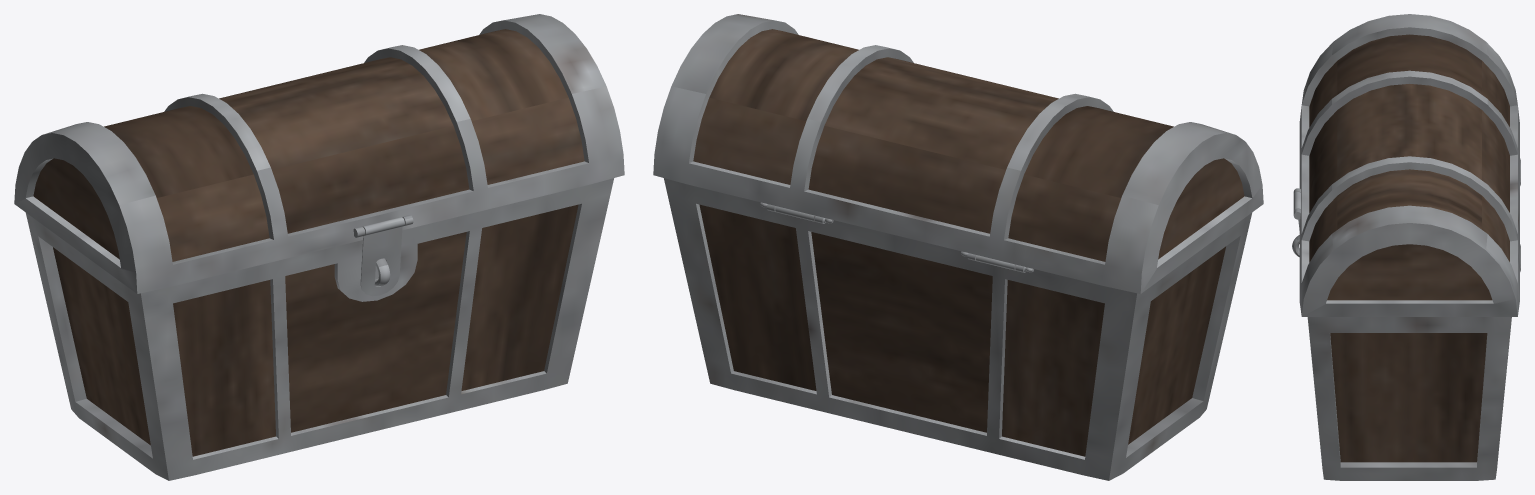
Rendered from chest_Texture.fbx.
3 views of the same model, side by side, from view 1: azimuth 30°, elevation 25°; view 2: azimuth 150°, elevation 25°; view 3: azimuth 270°, elevation 25° (orthographic). The views are drawn at different scales.
Visible parts, largest first — view 1: Wood, Iron; view 2: Wood, Iron; view 3: Wood, Iron.
Boxes of the visible parts, x1,y1,x2,y2 form: Wood: (33,29,584,456); Iron: (14,14,624,480); Wood: (693,29,1244,456); Iron: (653,14,1263,480); Wood: (1309,34,1509,462); Iron: (1292,14,1520,480).
Size of the model in its own units: 506 by 311 by 232.
Materials: 1 (1 with a texture image).
